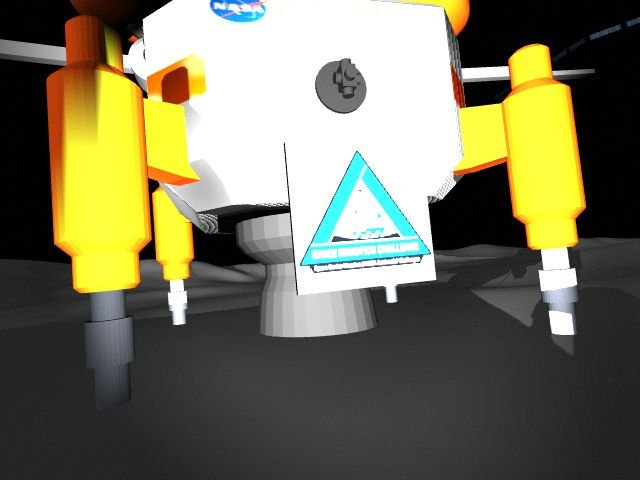basemarker: (300, 150, 434, 275)
